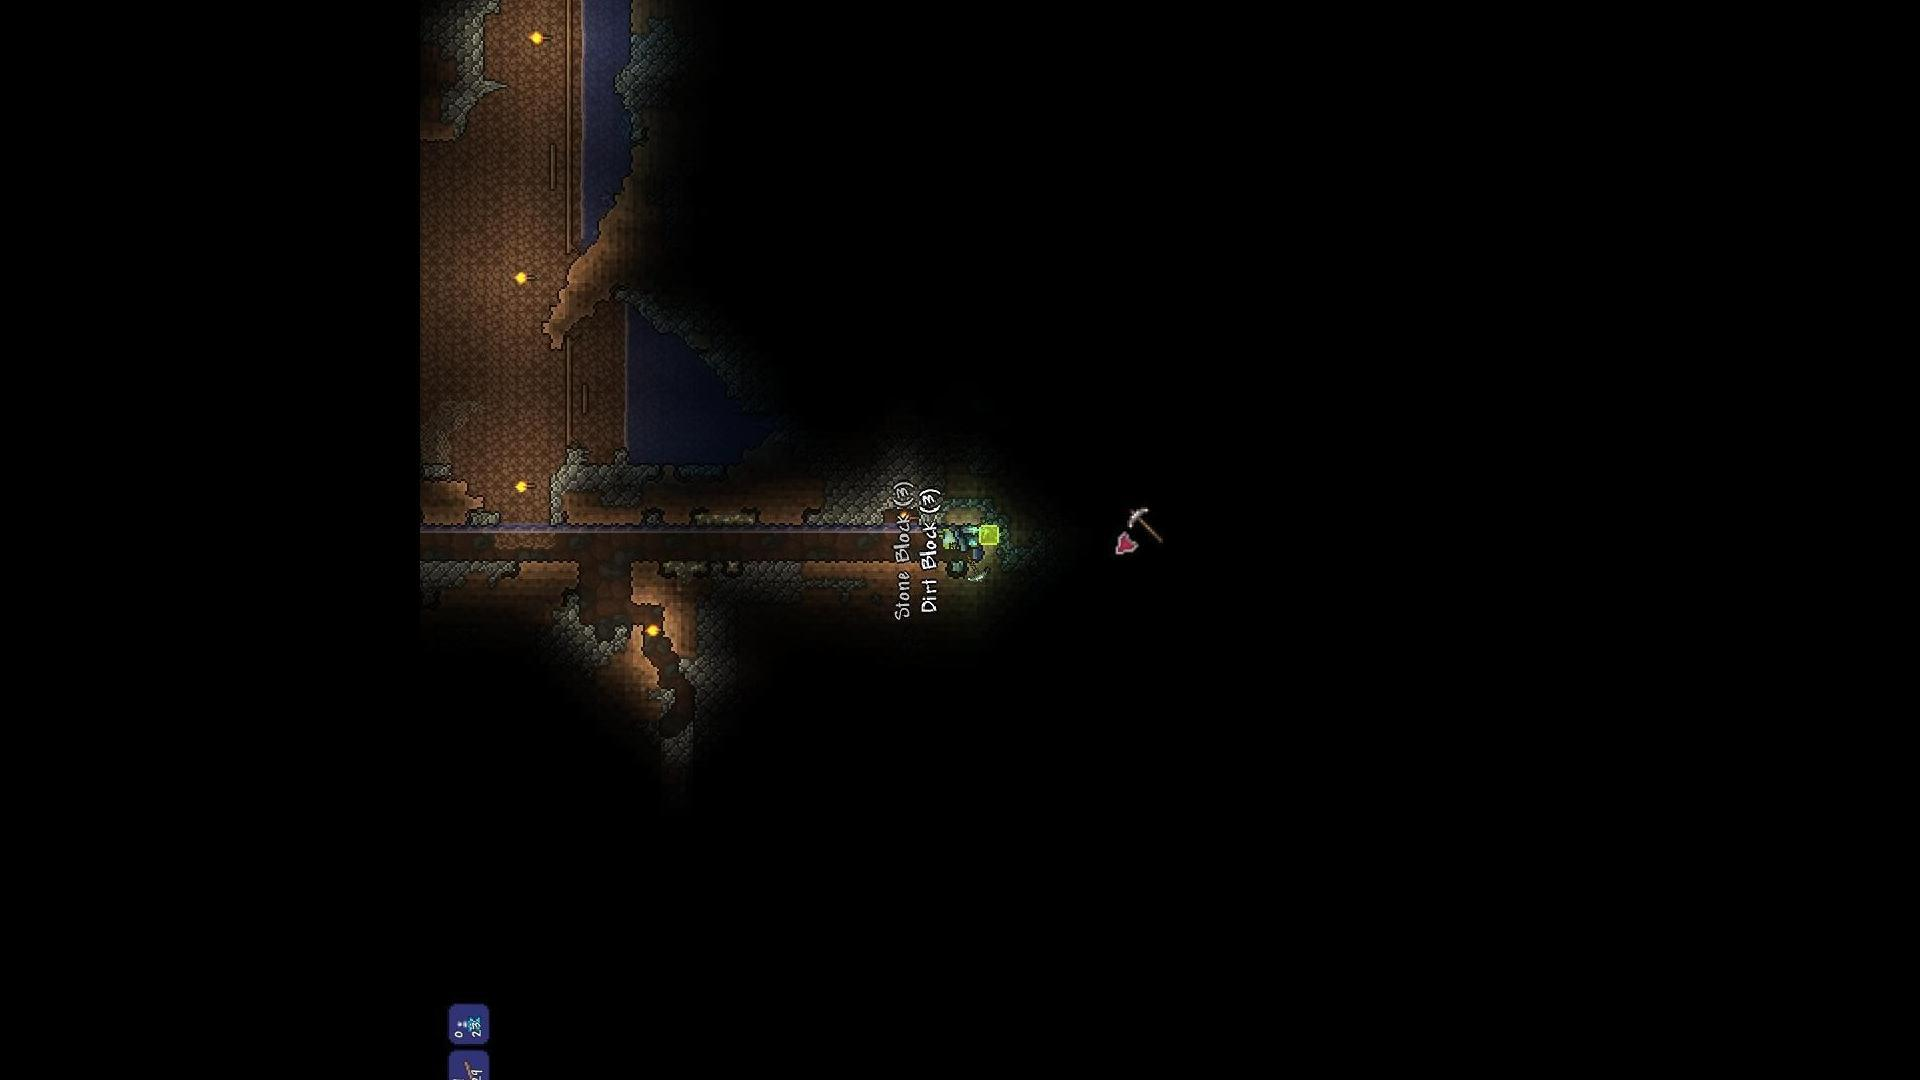platform: (555, 0, 572, 255), (556, 331, 578, 446), (459, 1058, 476, 1080)
